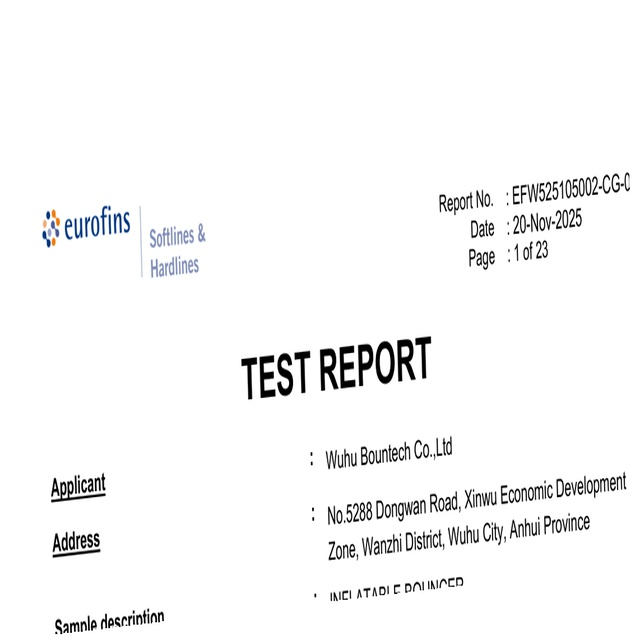eurofins: (31, 202, 134, 249)
